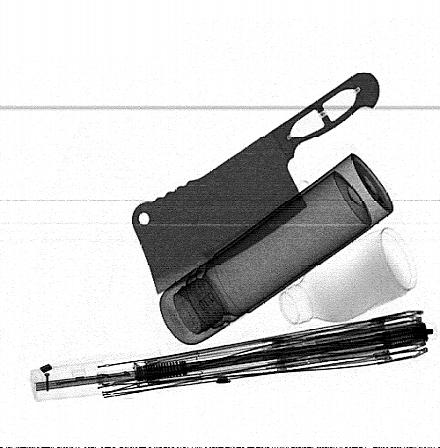Knife: (131, 72, 380, 295)
